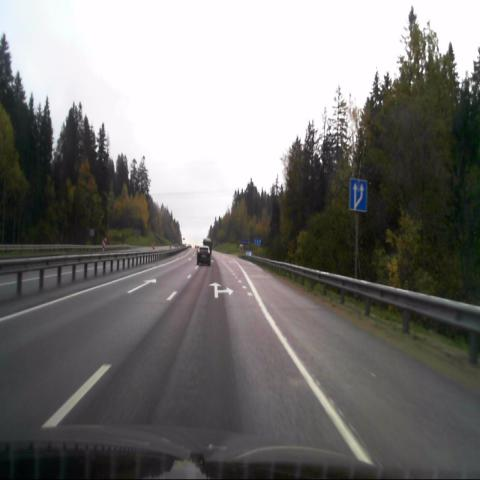5_15_3: (349, 179, 367, 212)
